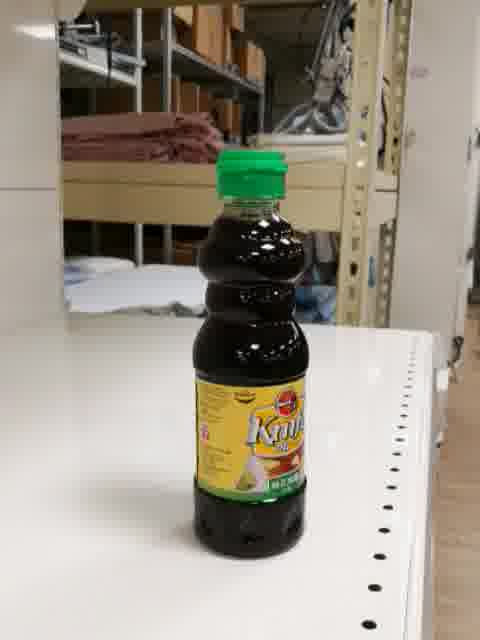cookingoil: (190, 147, 310, 561)
